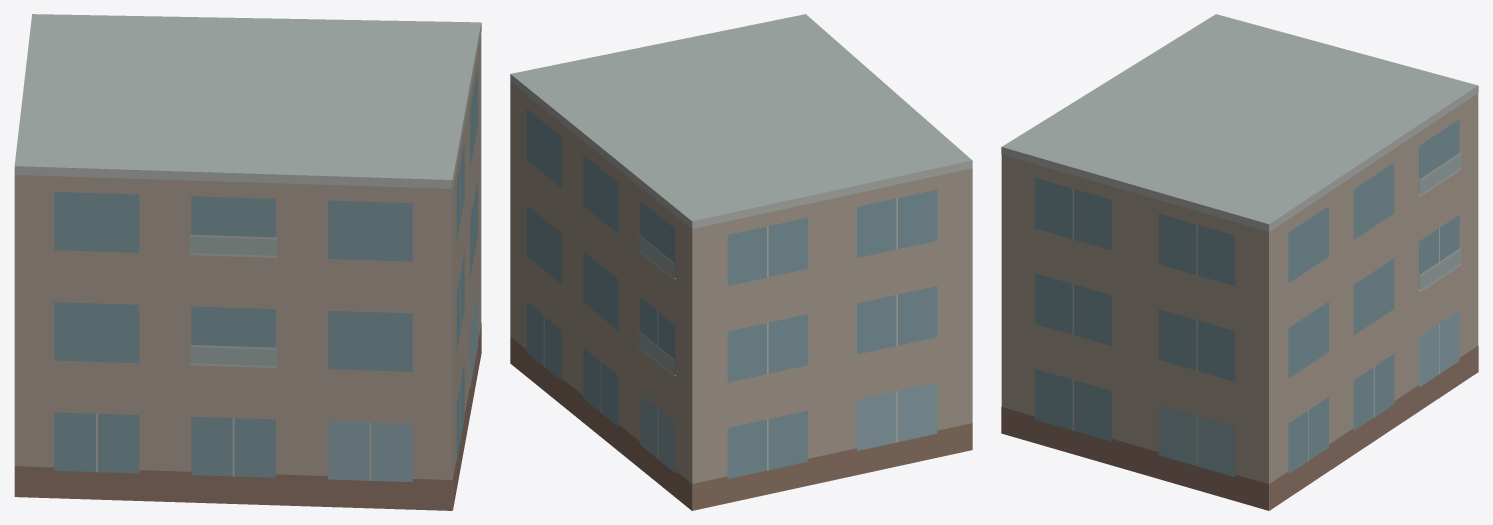
File: survey-upis-32891118.glb
The picture shows the model from 3 angles, left to right: view 1: azimuth 30°, elevation 25°; view 2: azimuth 150°, elevation 25°; view 3: azimuth 270°, elevation 25°; orthographic projection. The views are drawn at different scales.
Visible parts, largest first — view 1: survey-upis-32891118.tmp; view 2: survey-upis-32891118.tmp; view 3: survey-upis-32891118.tmp.
Boxes of the visible parts, left/top/right/bottom form: survey-upis-32891118.tmp: left=14, top=14, right=481, bottom=510; survey-upis-32891118.tmp: left=510, top=14, right=972, bottom=510; survey-upis-32891118.tmp: left=1001, top=14, right=1478, bottom=510.
Size of the model in its own units: 14.41 by 9.15 by 13.81.
